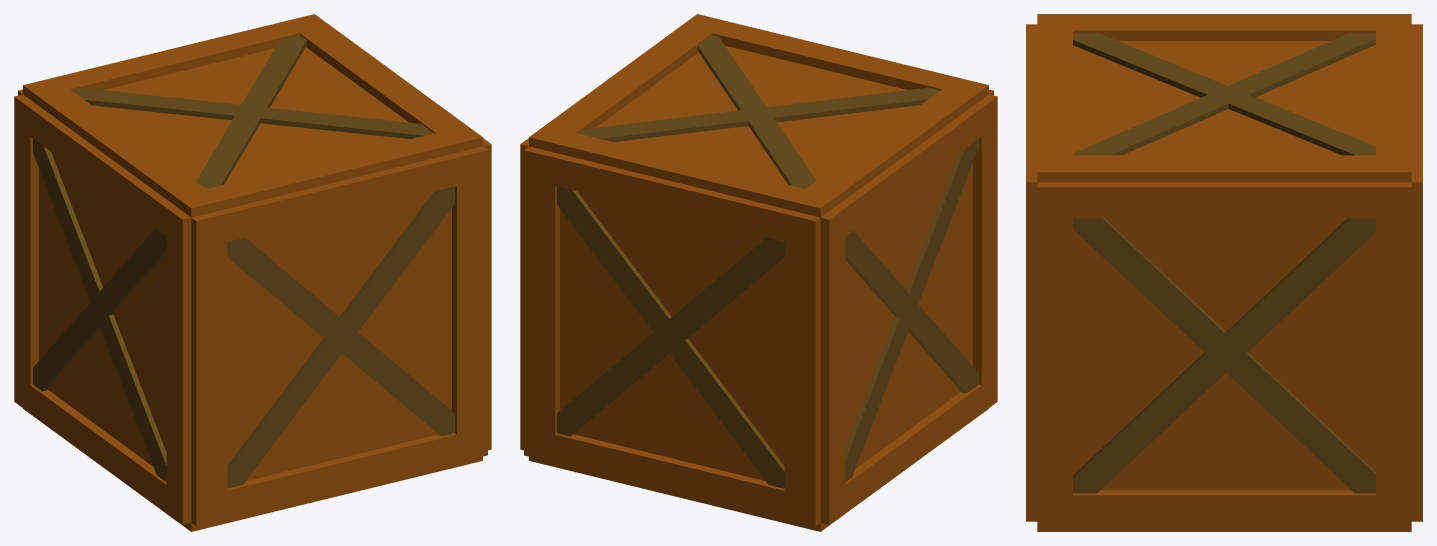
The model's file is Crate.fbx.
3 views of the same model, side by side, from view 1: azimuth 30°, elevation 25°; view 2: azimuth 150°, elevation 25°; view 3: azimuth 270°, elevation 25° (orthographic). The views are drawn at different scales.
Parts seen in each view (by area): view 1: Crate; view 2: Crate; view 3: Crate.
Boxes of the visible parts, x1,y1,x2,y2 form: Crate: (14,14,491,531); Crate: (520,14,997,531); Crate: (1026,14,1422,531).
Size of the model in its own units: 212 by 212 by 212.
